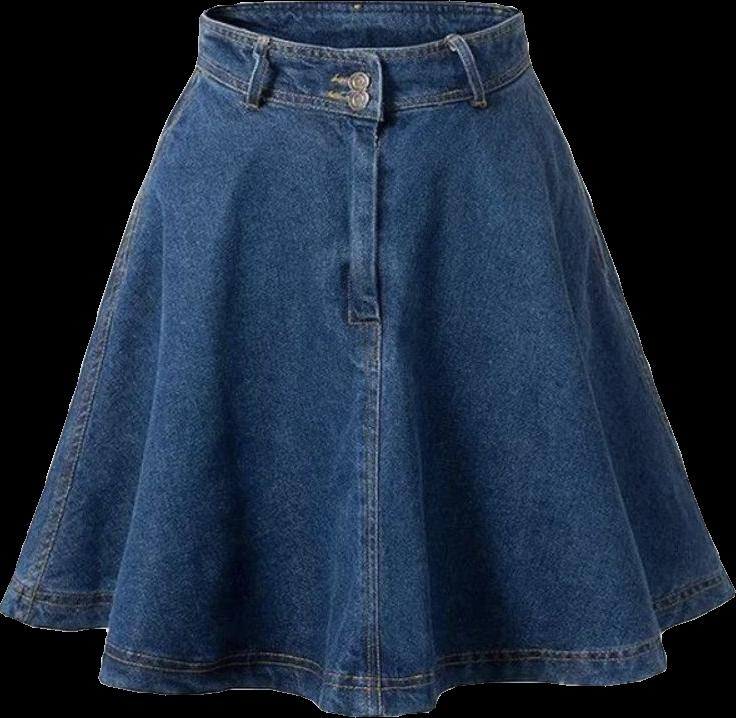Hemline: (0, 582, 735, 717)
Waistline: (192, 60, 536, 118), (198, 7, 527, 55)
